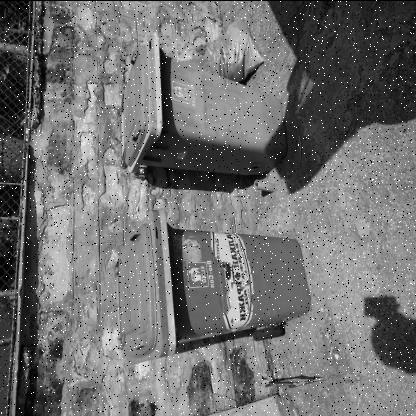other: (176, 16, 266, 82)
